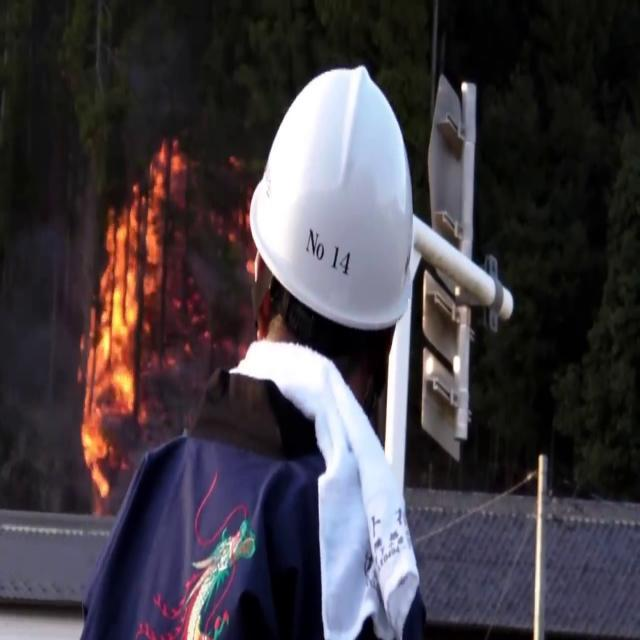Fire: (72, 142, 175, 498)
